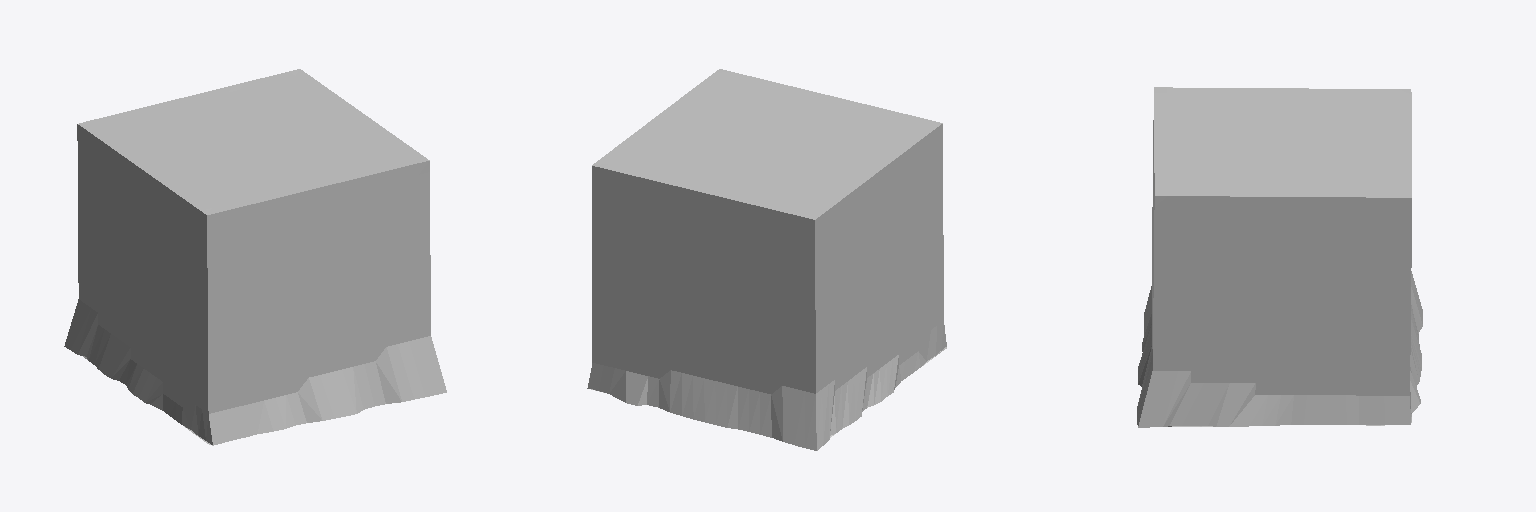
File: mod0076.obj
3 views of the same model, side by side, from view 1: azimuth 30°, elevation 25°; view 2: azimuth 150°, elevation 25°; view 3: azimuth 270°, elevation 25° (orthographic).
Visible parts, largest first — view 1: Box001; view 2: Box001; view 3: Box001.
Boxes of the visible parts, box(x1,y1,x2,y2) form: Box001: box(64, 69, 446, 445); Box001: box(587, 69, 946, 450); Box001: box(1137, 87, 1422, 427).
Bounding box in the file's own units: 0.5799 × 0.5264 × 0.5979.